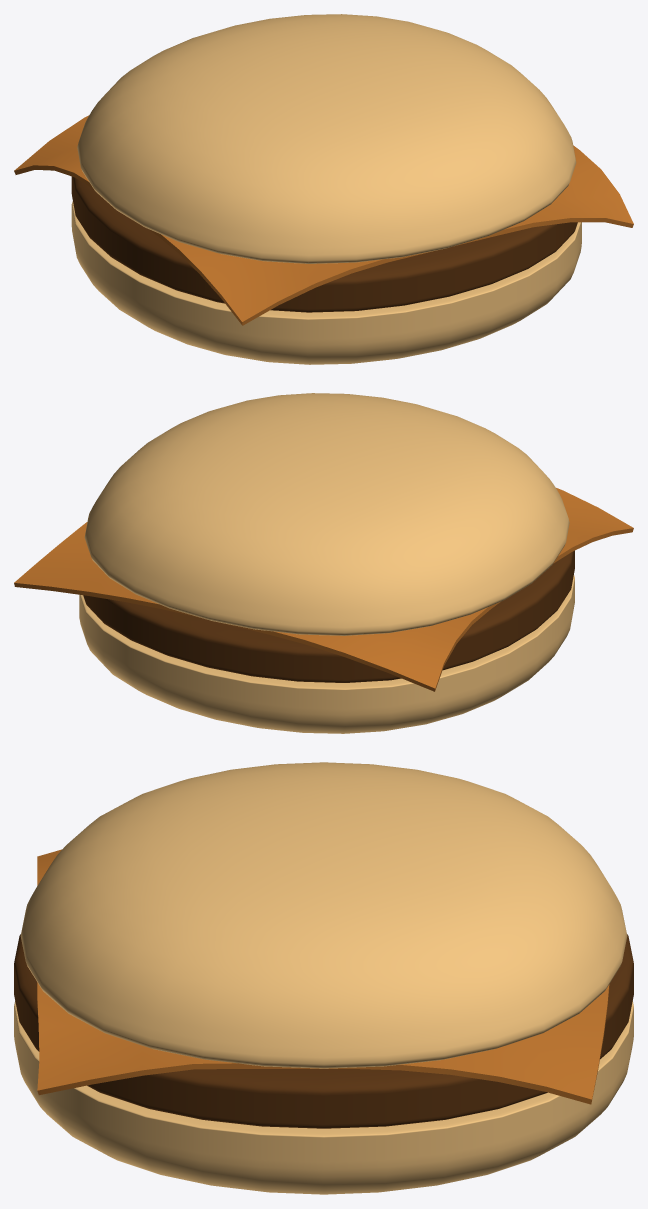
The model's file is hamburger.glb.
3 renders of one model, top to bottom at view 1: azimuth 30°, elevation 25°; view 2: azimuth 150°, elevation 25°; view 3: azimuth 270°, elevation 25°, orthographic. The views are drawn at different scales.
Visible parts, largest first — view 1: Cube.002, Cube, Cube.001, Plane; view 2: Cube.002, Cube, Cube.001, Plane; view 3: Cube.002, Cube, Cube.001, Plane.
Part boxes in pixels (x1,y1,x2,y2): Cube.002: (77,14,576,263); Cube: (71,201,581,364); Cube.001: (71,176,577,312); Plane: (14,115,633,325); Cube.002: (84,393,569,635); Cube: (79,575,574,733); Cube.001: (83,550,574,682); Plane: (14,488,633,691); Cube.002: (20,762,627,1068); Cube: (14,1001,633,1194); Cube.001: (14,934,633,1128); Plane: (37,849,609,1104).
Bounding box in the file's own units: 9.17 × 4.57 × 9.17.
